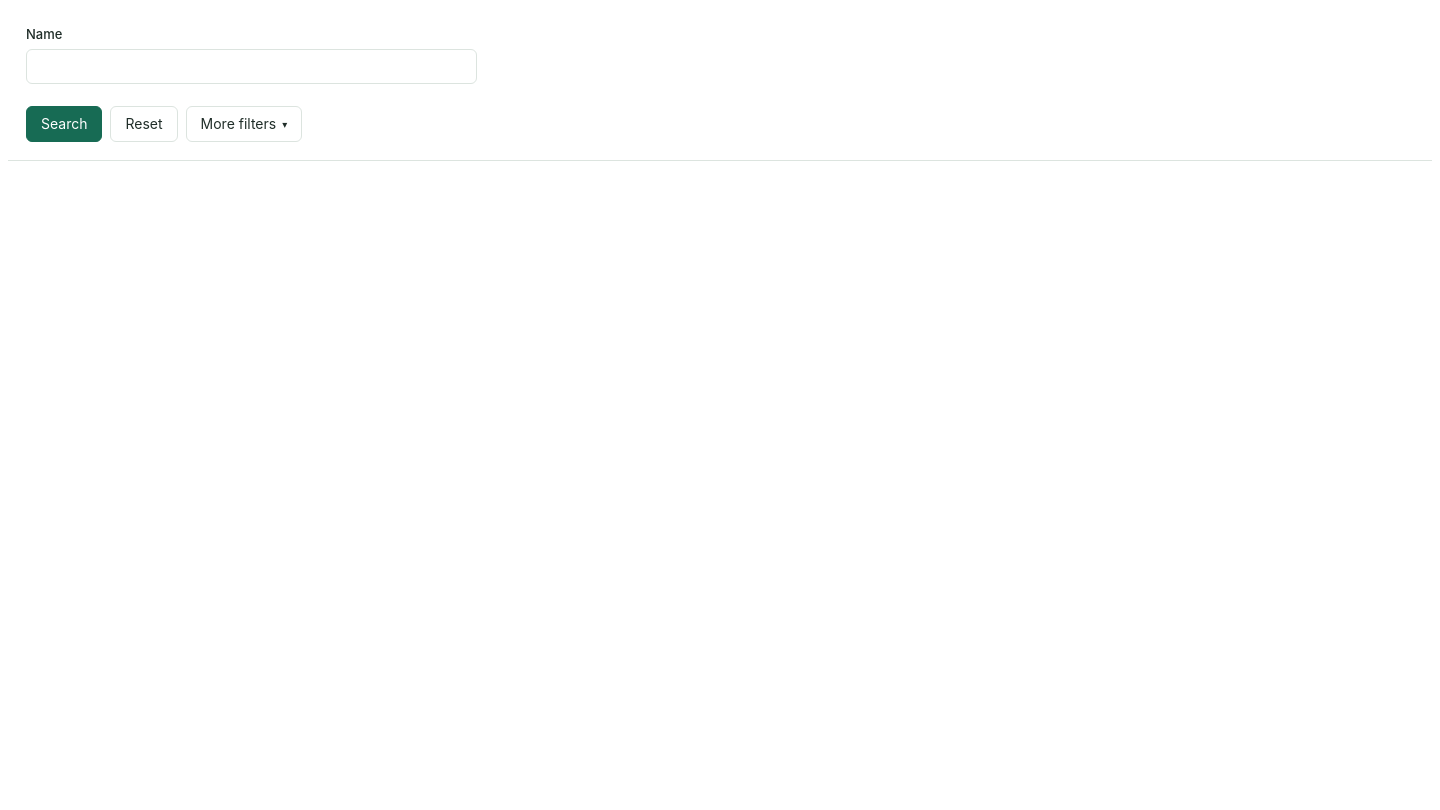
Test: instant popover edit validates a main cross-field rule against new outgoing values
Step 1. Type "a" into the field labelled "Name" → coordinates (251, 66), box [26,49,477,84]
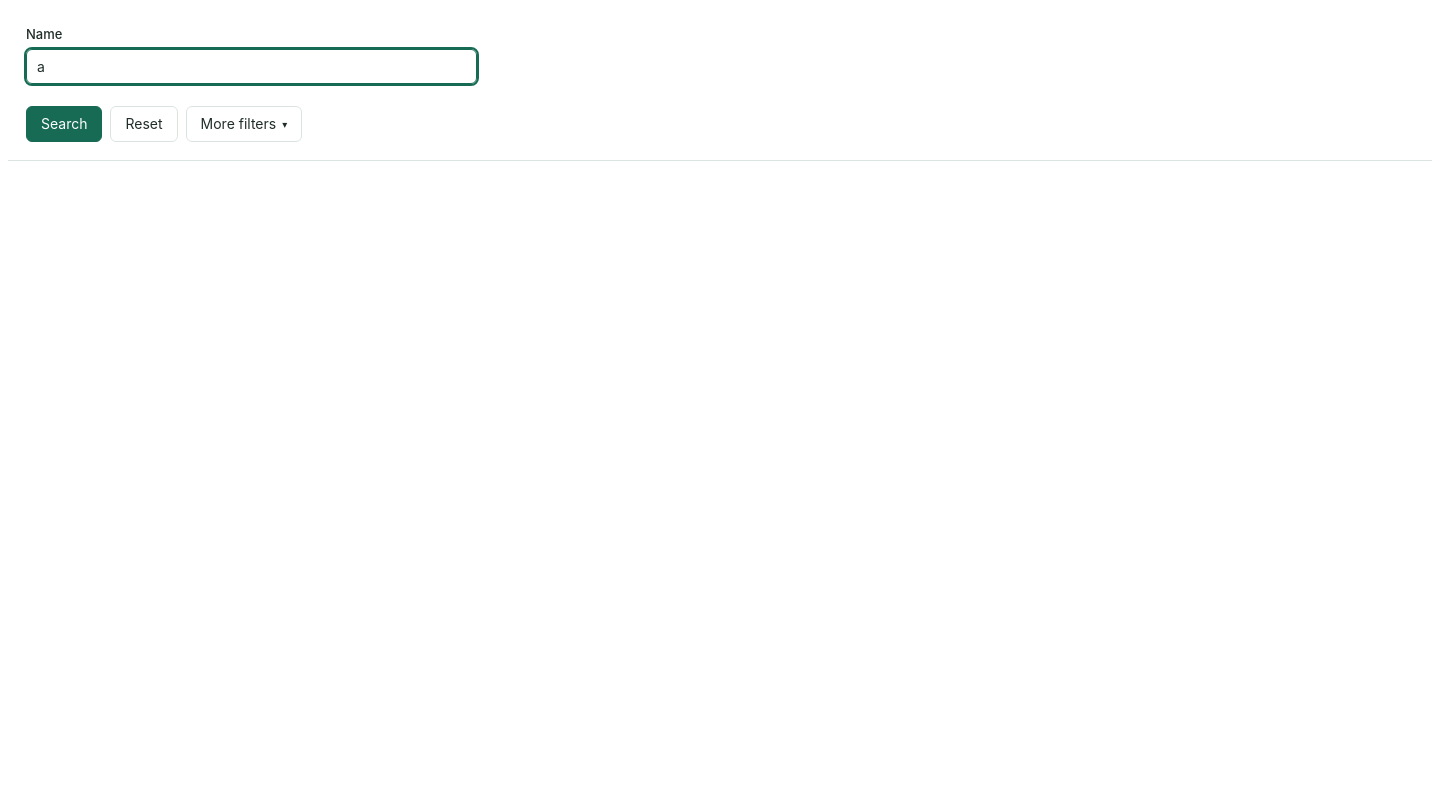
Step 2. Click the button with test id "rac-more-filters" → coordinates (244, 124), box [186,106,302,142]
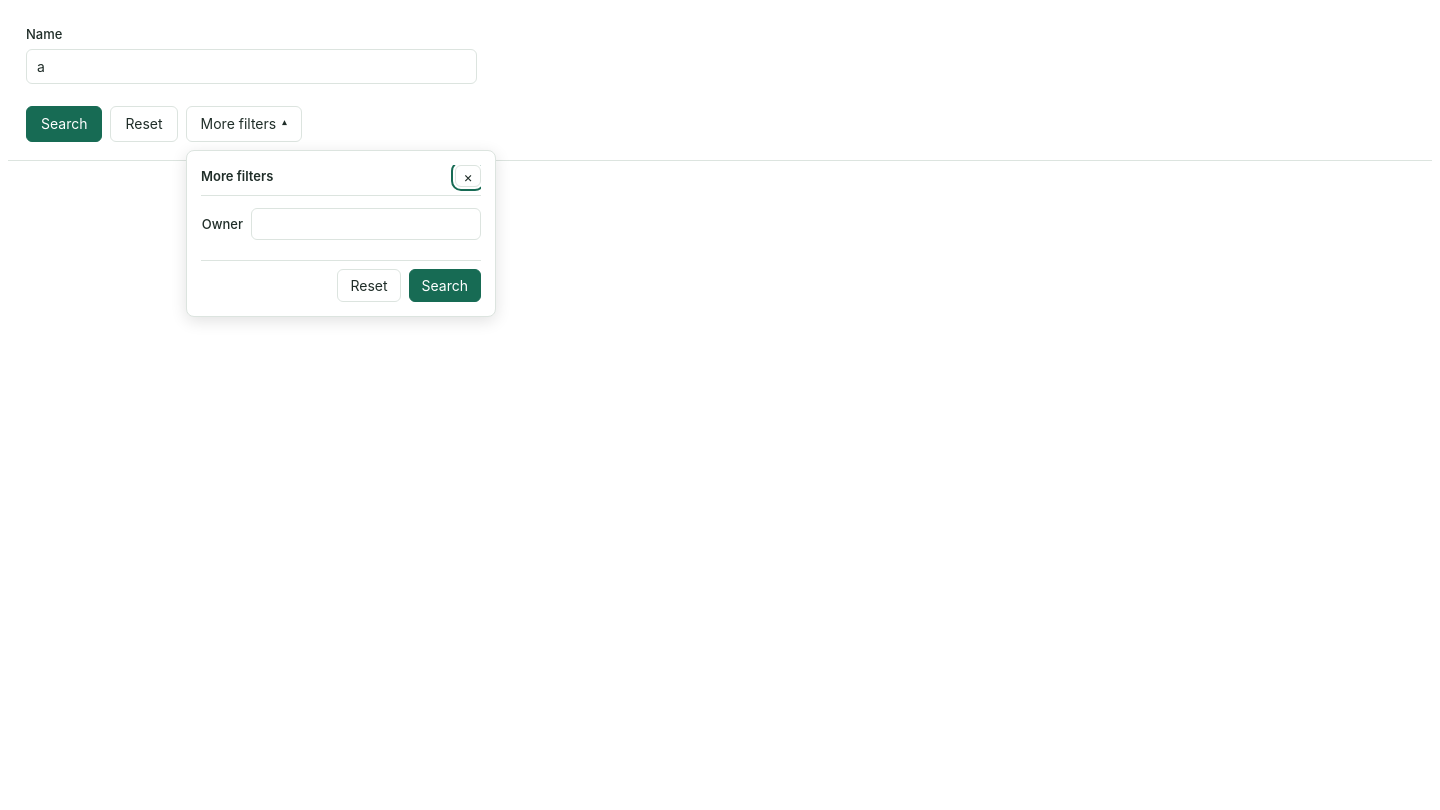
Step 3. Type "a" into the field labelled "Owner" → coordinates (366, 224), box [251,208,481,240]
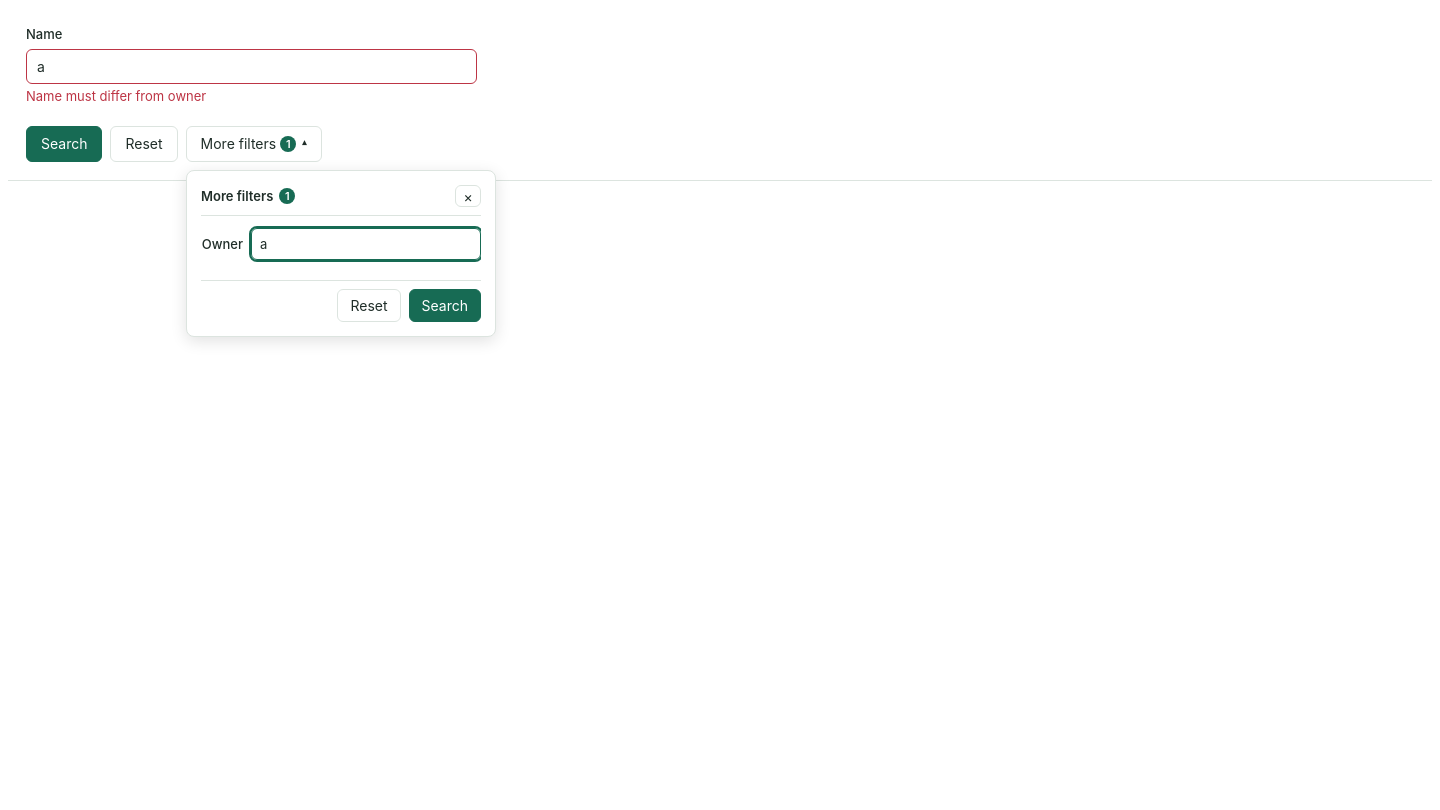
Expected: the message reads "Name must differ from owner", [26,88,206,104]
